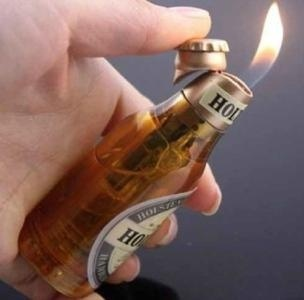fire: (247, 0, 285, 79)
